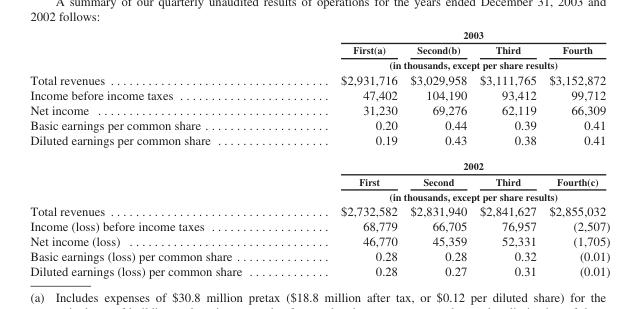table: (29, 28, 609, 278)
table column: (29, 28, 290, 278), (290, 28, 403, 278), (472, 28, 542, 278), (403, 28, 472, 278), (542, 28, 609, 278)
table column header: (29, 28, 609, 71)
table row: (29, 132, 609, 153), (29, 153, 609, 173), (29, 101, 609, 117), (29, 202, 609, 218), (29, 42, 609, 57), (29, 71, 609, 86), (29, 86, 609, 101), (29, 117, 609, 132), (29, 173, 609, 188), (29, 218, 609, 233), (29, 233, 609, 248), (29, 248, 609, 263), (29, 263, 609, 278), (29, 28, 609, 42), (29, 57, 609, 71), (29, 188, 609, 202)
table spanning cell: (290, 153, 609, 173), (290, 28, 609, 42), (290, 57, 609, 71), (290, 188, 609, 202)
